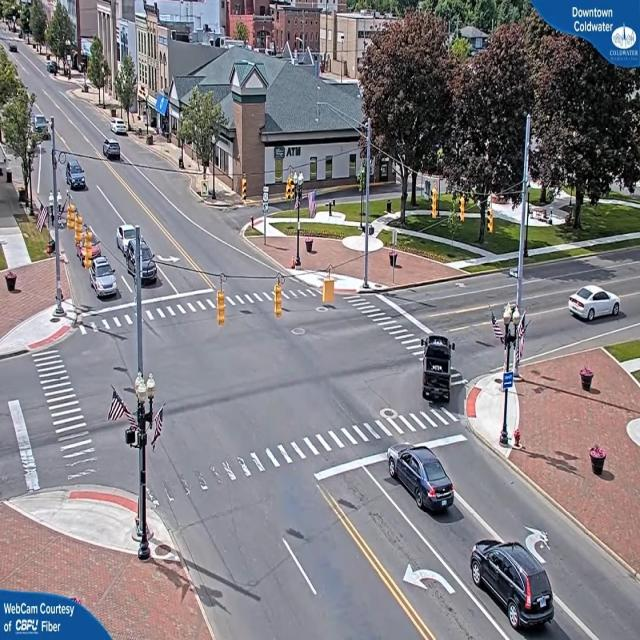car: (469, 538, 556, 633), (387, 443, 458, 515), (570, 285, 622, 322), (91, 258, 119, 300), (66, 162, 87, 189), (105, 139, 122, 159), (112, 120, 128, 136)
